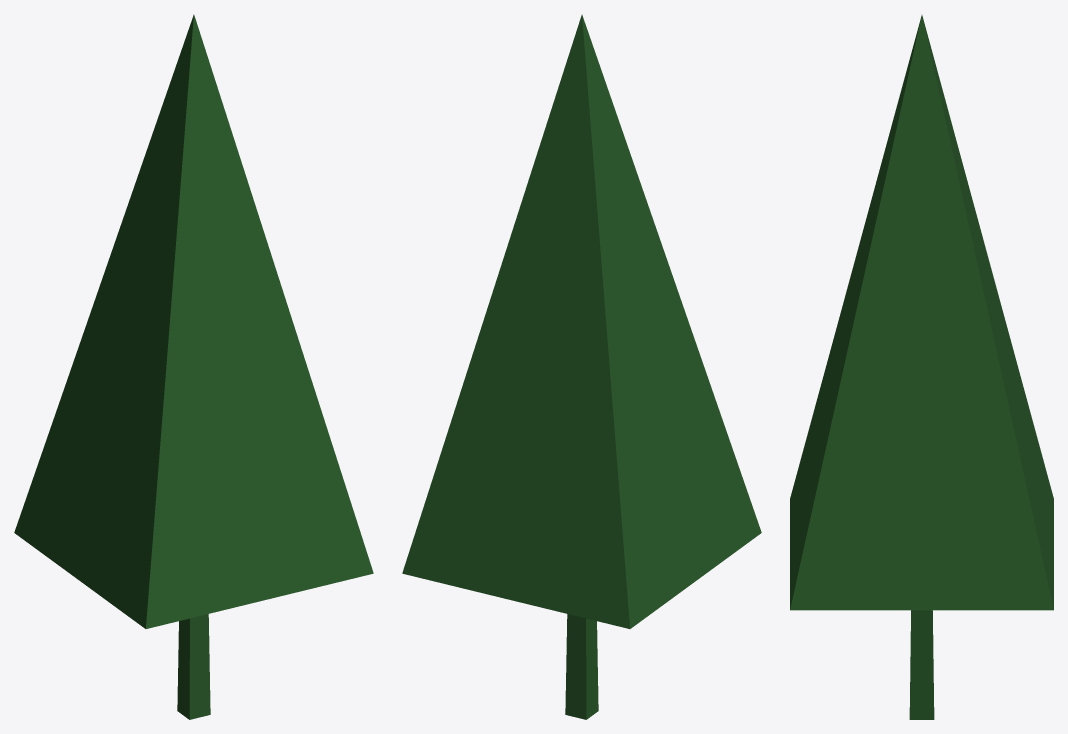
Rendered from tree_01.obj.
3 renders of one model, left to right at view 1: azimuth 30°, elevation 25°; view 2: azimuth 150°, elevation 25°; view 3: azimuth 270°, elevation 25°, orthographic.
Parts seen in each view (by area): view 1: tree_00; view 2: tree_00; view 3: tree_00.
Part boxes in pixels (left/top/right/bottom): tree_00: left=14, top=14, right=373, bottom=719; tree_00: left=402, top=14, right=761, bottom=719; tree_00: left=790, top=15, right=1053, bottom=719.
Size of the model in its own units: 0.7112 by 2.08 by 0.7112.
